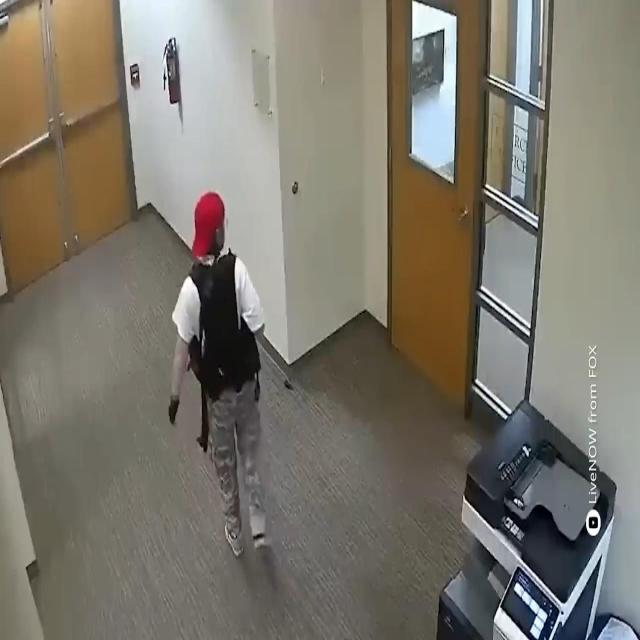gun: (168, 188, 273, 563), (194, 318, 212, 459)
